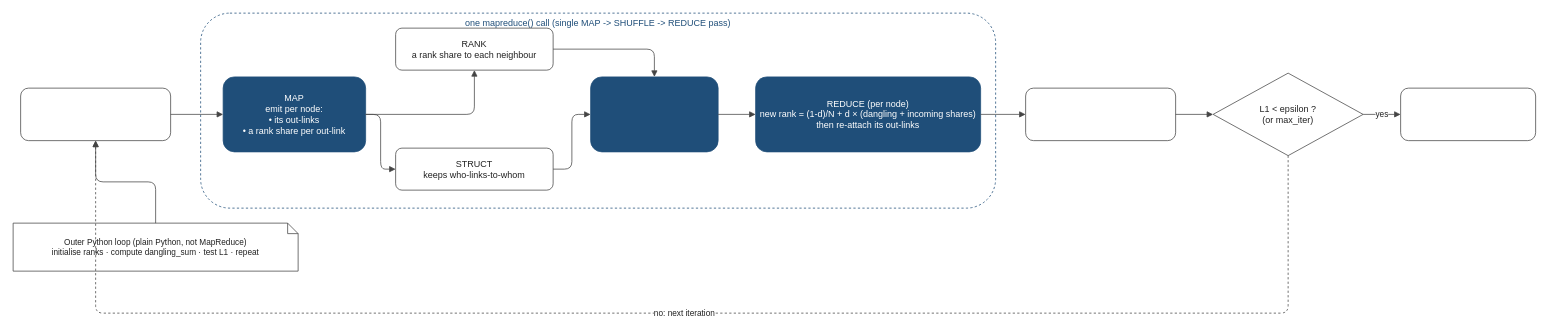
The diagram is 1549 pixels wide and 332 high, and some of its shapes have lost their labels. Each missing label, with the box of its shape:
Current graph state node -> rank + out-links: (20, 87, 171, 141)
Final PageRank sum of ranks ~ 1.0: (1400, 87, 1536, 141)
Next graph state same shape -> ready to iterate: (1025, 87, 1176, 141)
SHUFFLE group every message by destination node: (590, 76, 718, 152)
